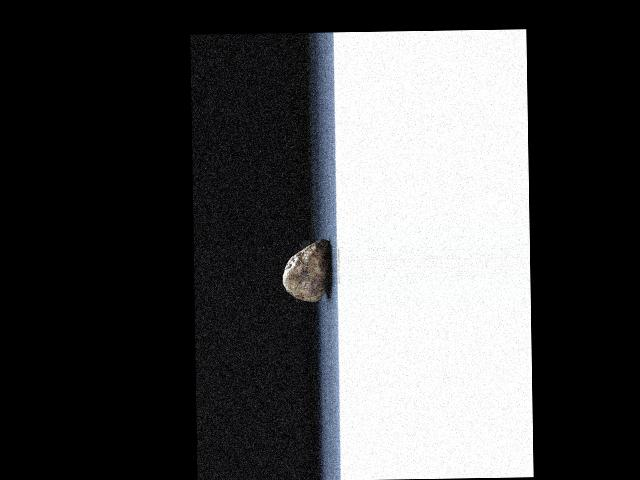beet: (282, 240, 330, 303)
